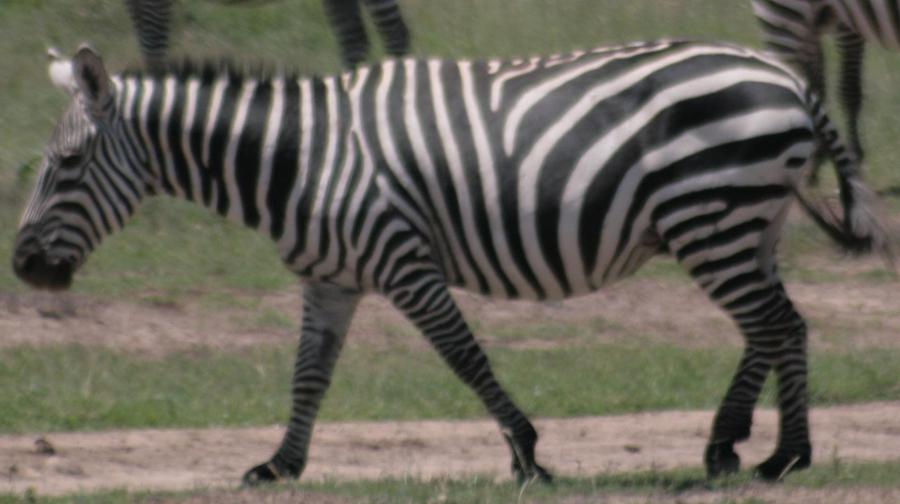zebra_plains: (269, 31, 815, 326)
